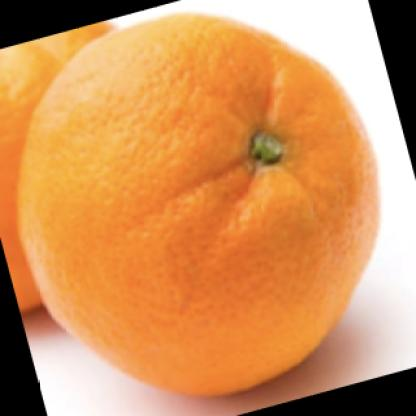fresh: (23, 14, 380, 394)
